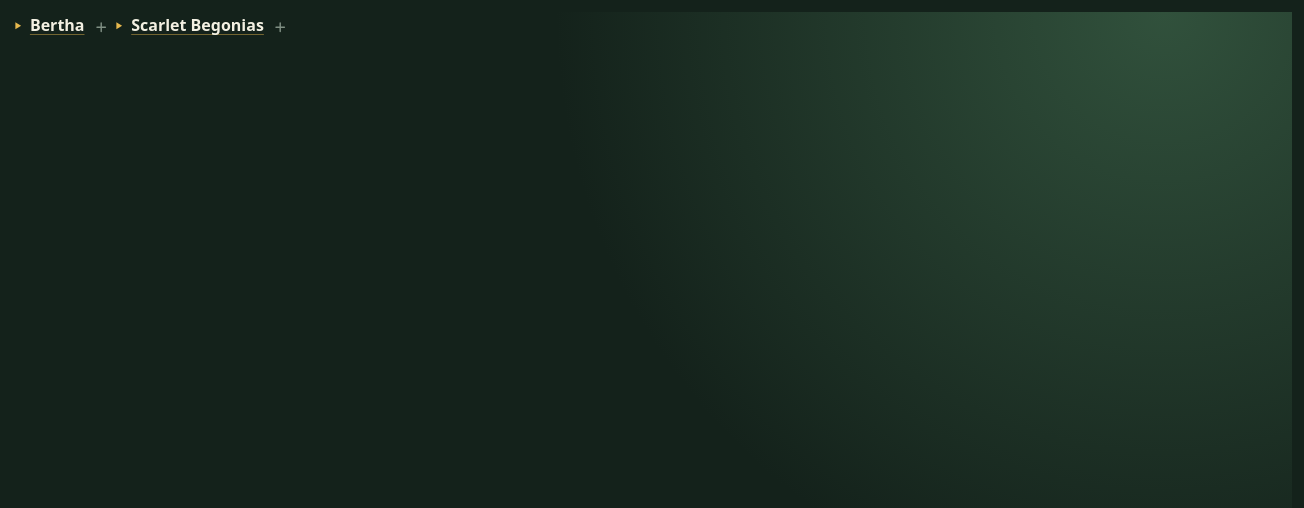
Scenario: the Up next panel › moves a track up to play next
Step 1. Click the button "Bertha" → coordinates (48, 25), box top-left (12, 12), bottom-right (84, 39)
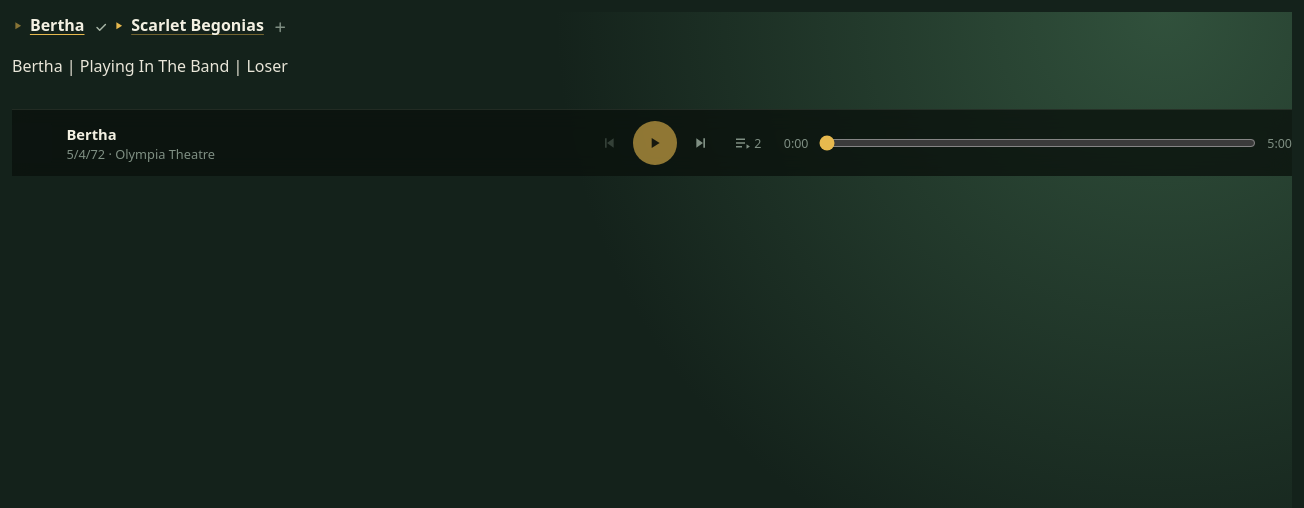
Step 2. Click the button named "Add Scarlet Begonias to queue" → coordinates (281, 27), box top-left (269, 15), bottom-right (293, 39)
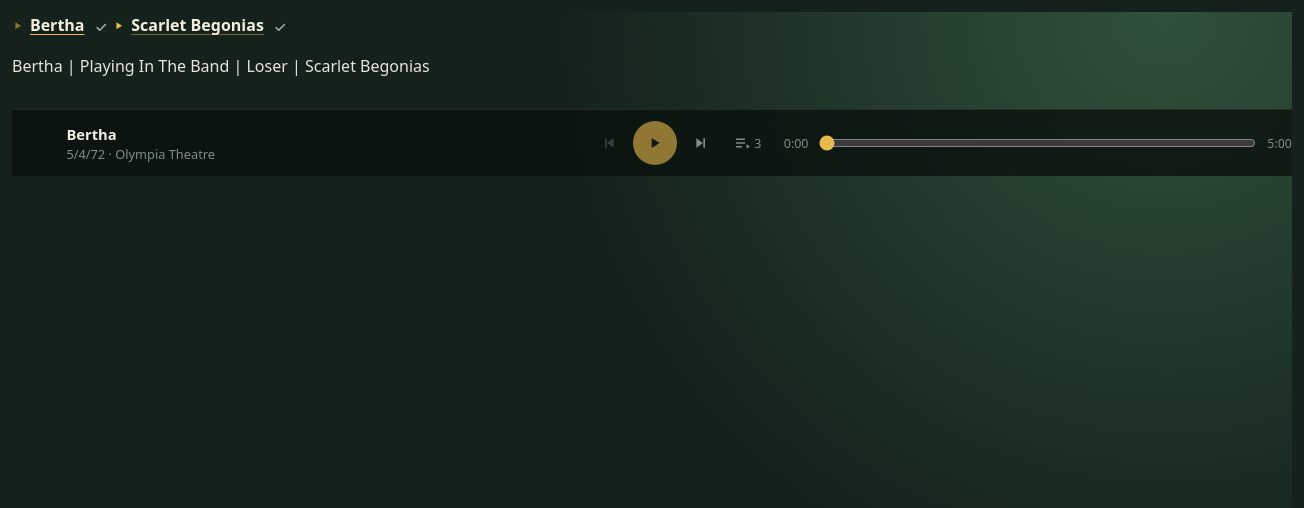
Step 3. Click the button named "Queue, 3 tracks up next" → coordinates (747, 143), box top-left (725, 123), bottom-right (769, 163)
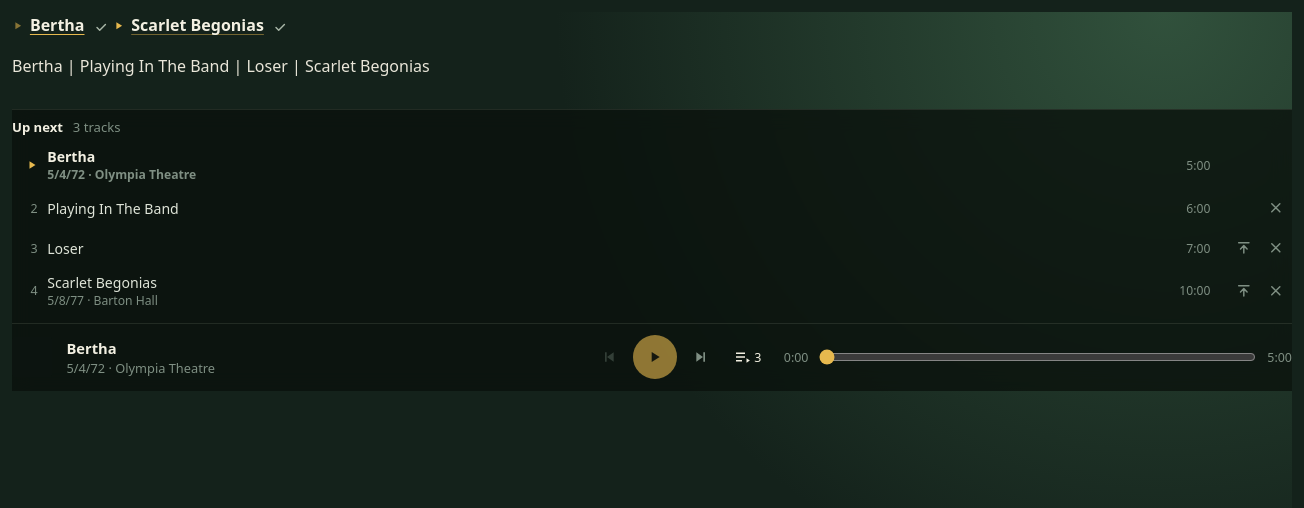
Check: the button named "Queue, 3 tracks up next" is expanded, box top-left (725, 338), bottom-right (769, 378)
Step 4. Click the button named "Play Scarlet Begonias next" → coordinates (1244, 291), box top-left (1228, 275), bottom-right (1260, 307)
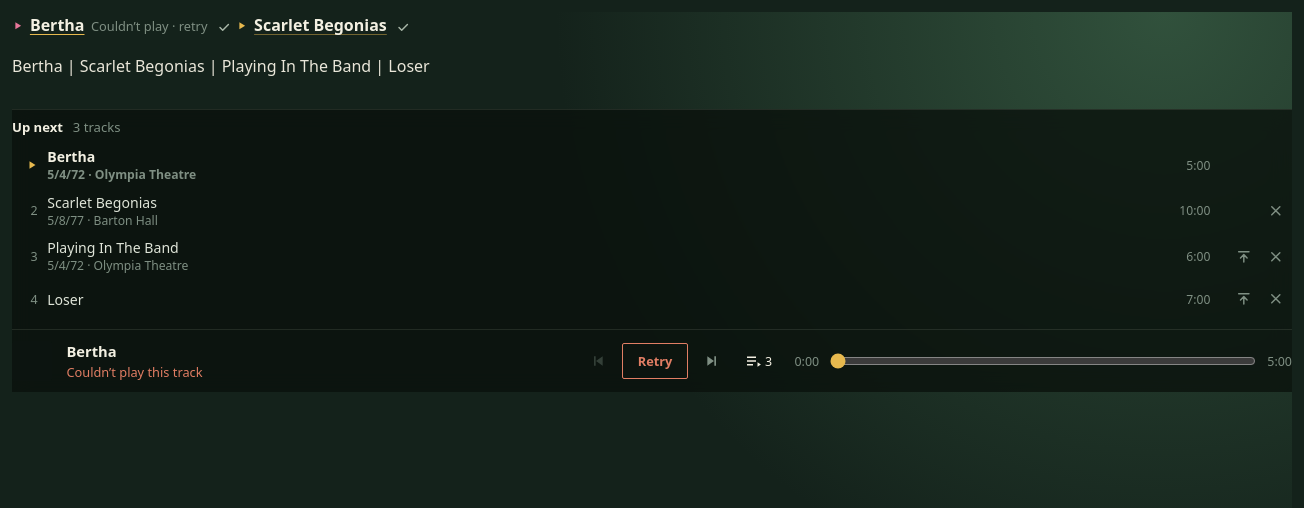
Check: the text with test id "queue" reads "Bertha | Scarlet Begonias | Playing In The Band | Loser", box top-left (12, 55), bottom-right (430, 77)
